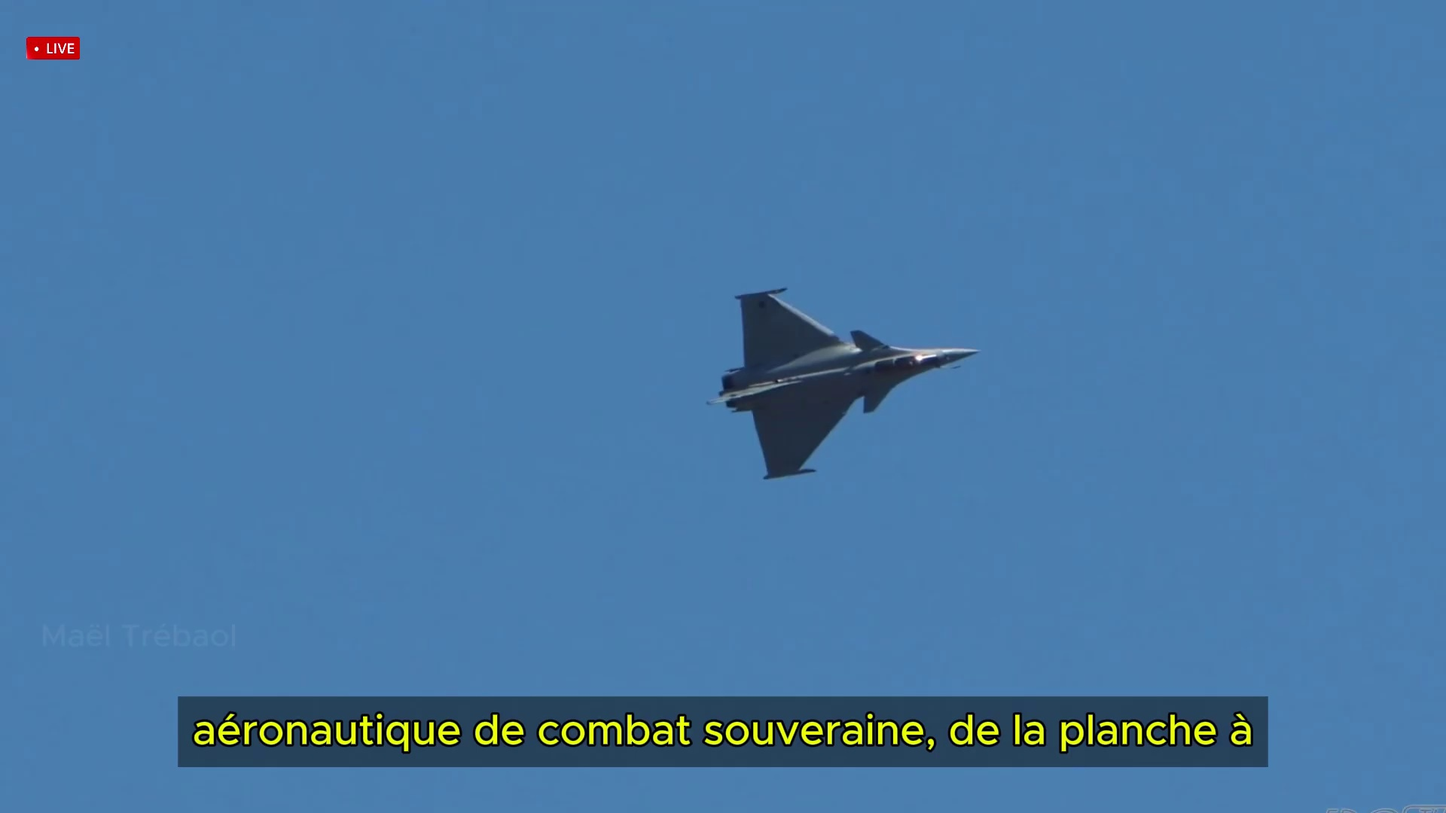Rafale: (704, 283, 981, 480)
